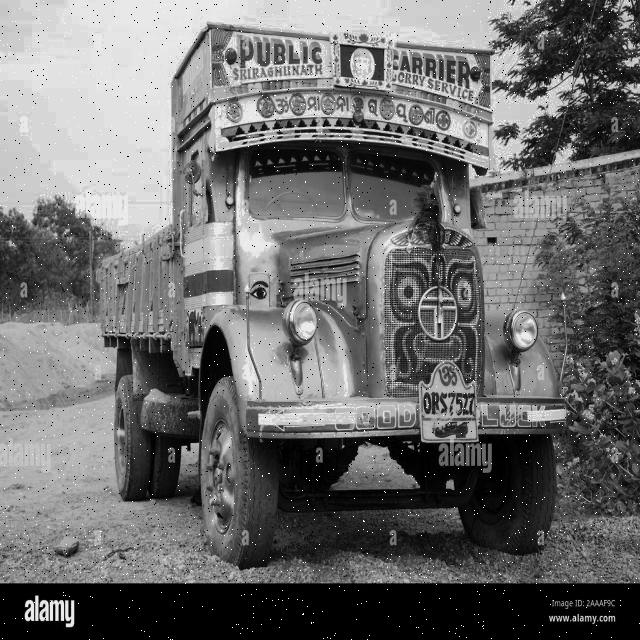HCV: (79, 27, 585, 573)
